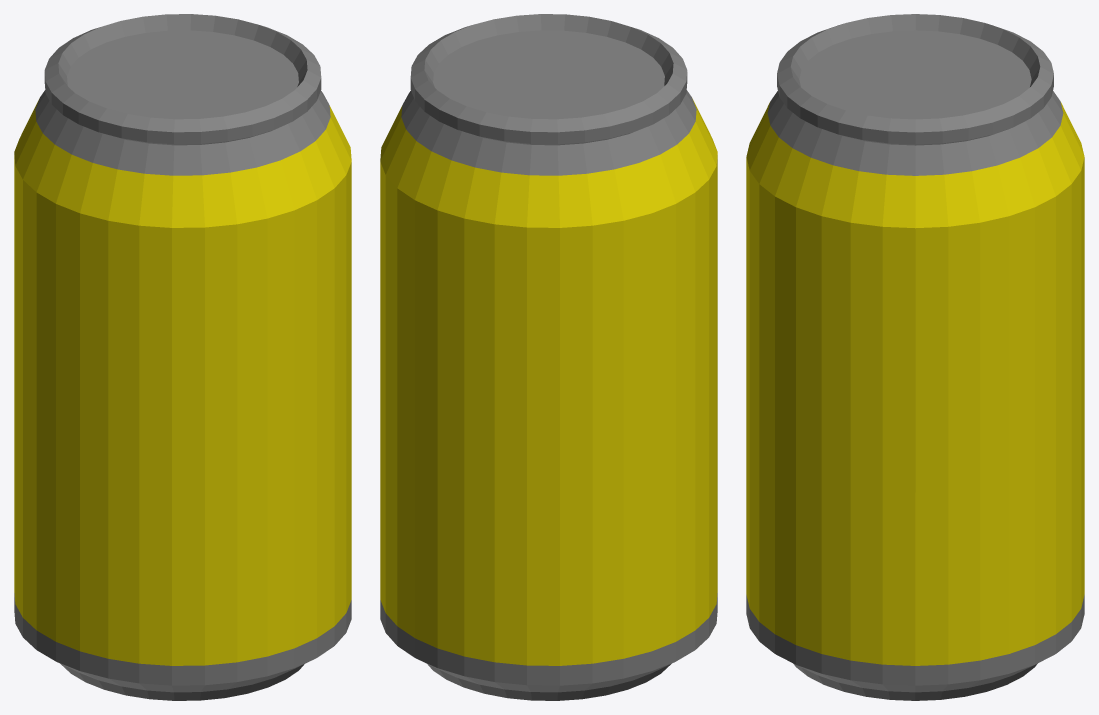
The model's file is Metal_Trash.fbx.
The picture shows the model from 3 angles, left to right: view 1: azimuth 30°, elevation 25°; view 2: azimuth 150°, elevation 25°; view 3: azimuth 270°, elevation 25°; orthographic projection.
Parts seen in each view (by area): view 1: Can; view 2: Can; view 3: Can.
Part boxes in pixels (x1,y1,x2,y2): Can: (14, 14, 351, 700); Can: (380, 14, 717, 700); Can: (746, 14, 1084, 700).
Bounding box in the file's own units: 155 × 294 × 155.
